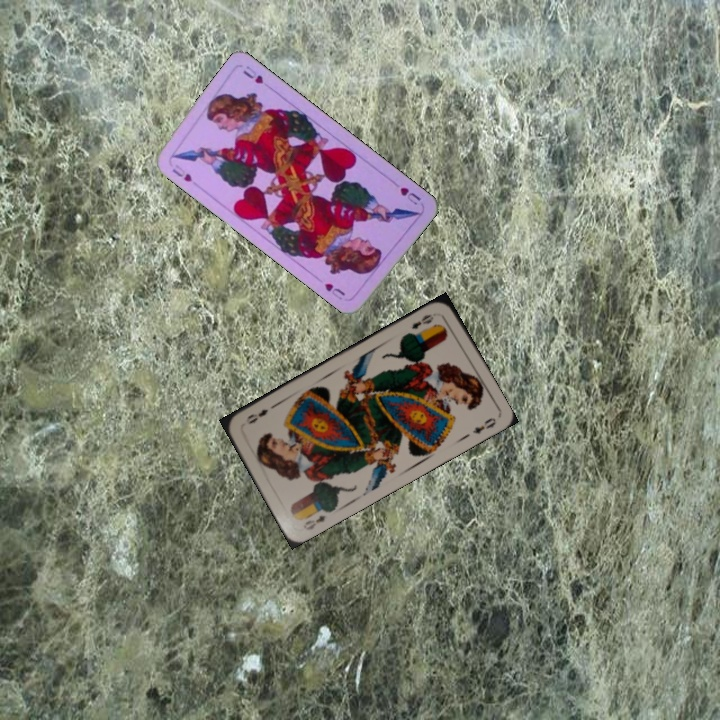EO: (407, 310, 436, 332), (299, 511, 328, 533)
HU: (396, 183, 424, 208), (168, 160, 195, 184)
